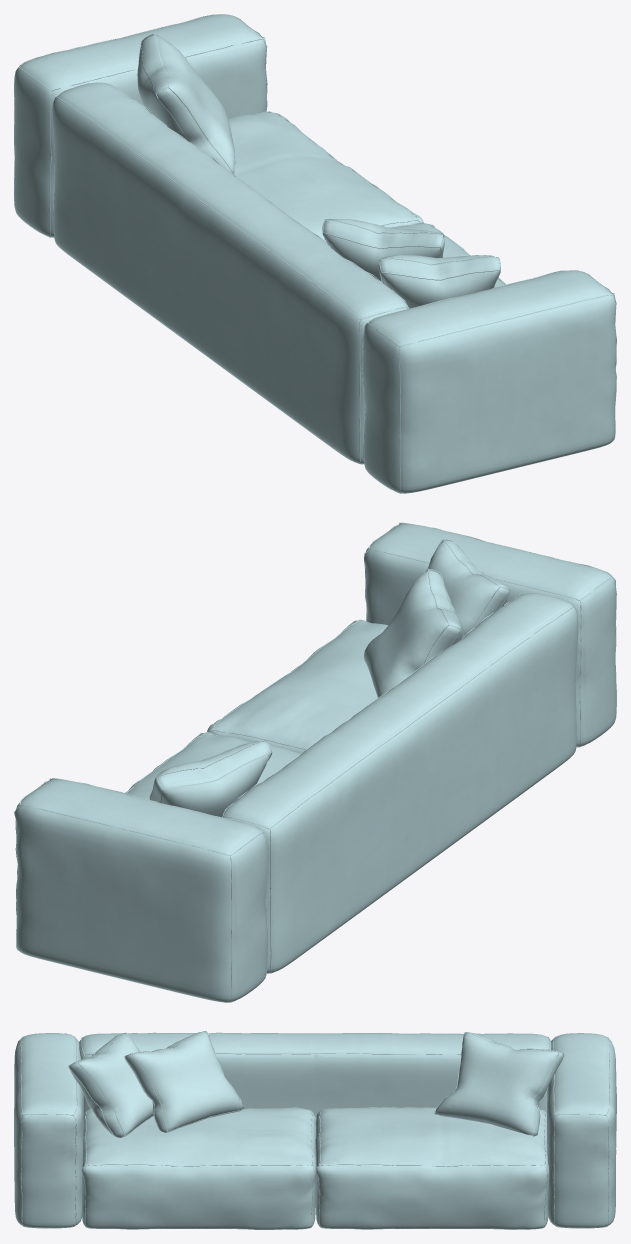
File: studyroom_61.obj
3 views of the same model, one above another, from view 1: azimuth 30°, elevation 25°; view 2: azimuth 150°, elevation 25°; view 3: azimuth 270°, elevation 25° (orthographic). The views are drawn at different scales.
Bounding box in the file's own units: 1.05 × 0.8101 × 3.08.
